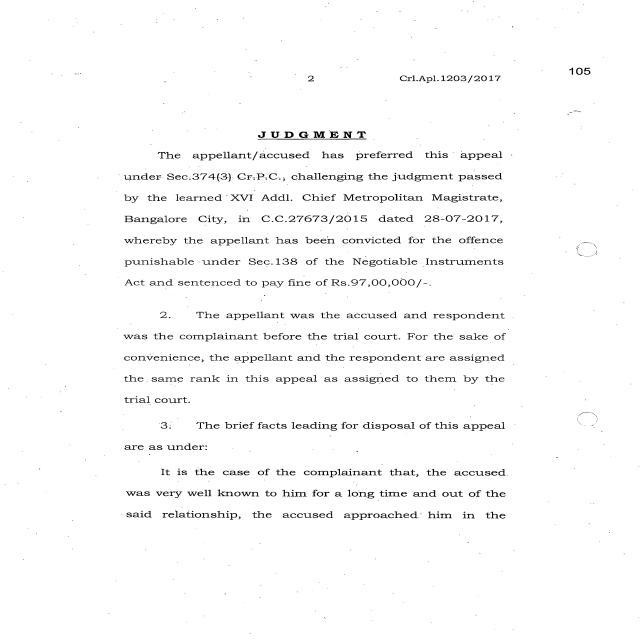page-number: (509, 18, 635, 165)
